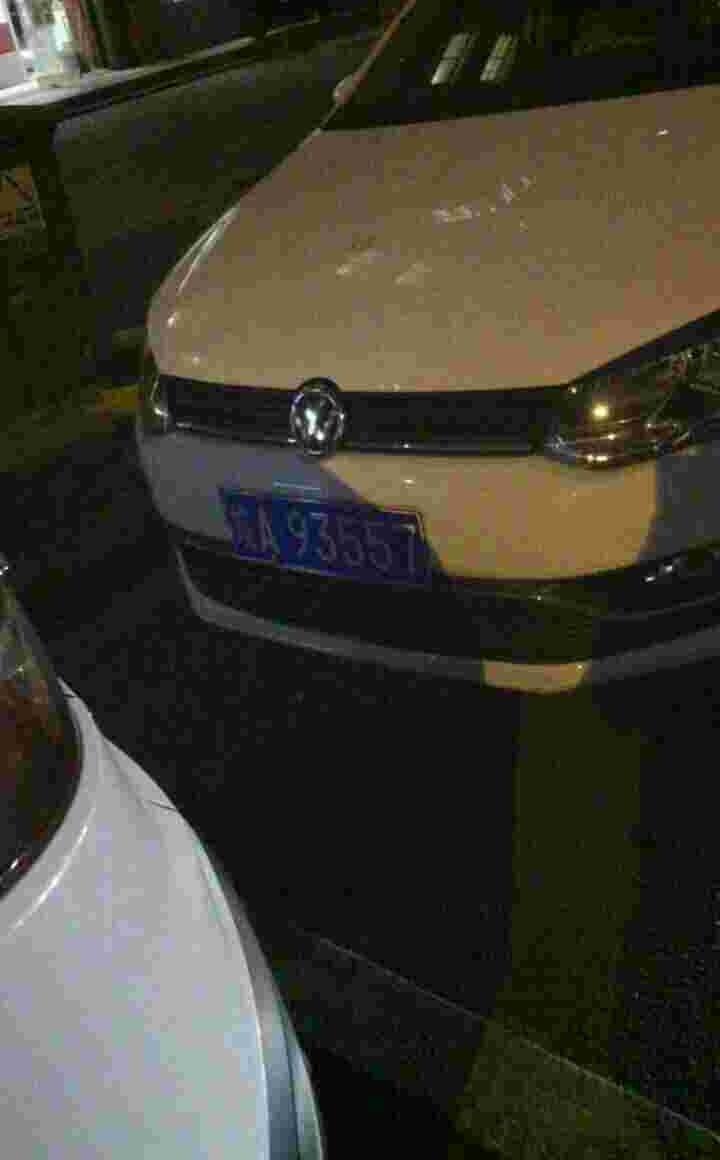plate: (215, 483, 435, 595)
